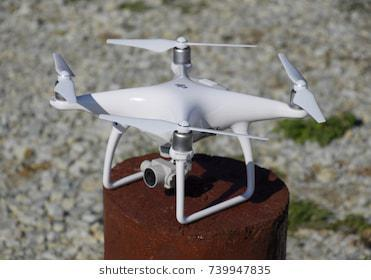drone: (47, 37, 327, 225)
